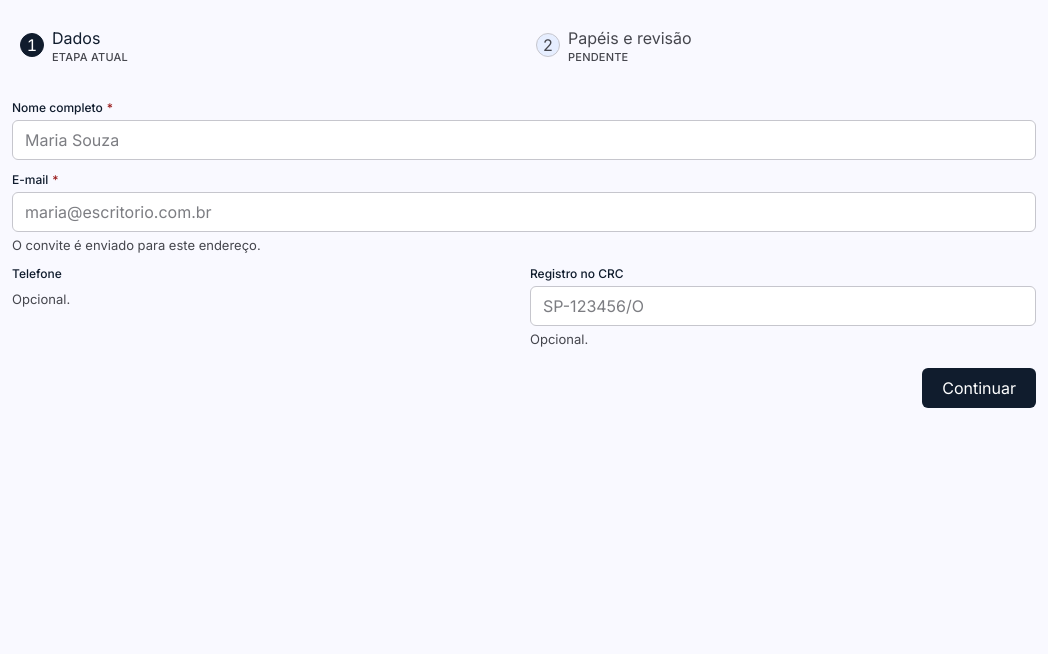
etapa 2 — Papéis e revisão › sem papel o envio é recusado com a mensagem no lugar certo, e nada é enviado
Type "Ana Souza" into the field labelled "Nome completo*" at [524, 140], box [12,120,1036,160]
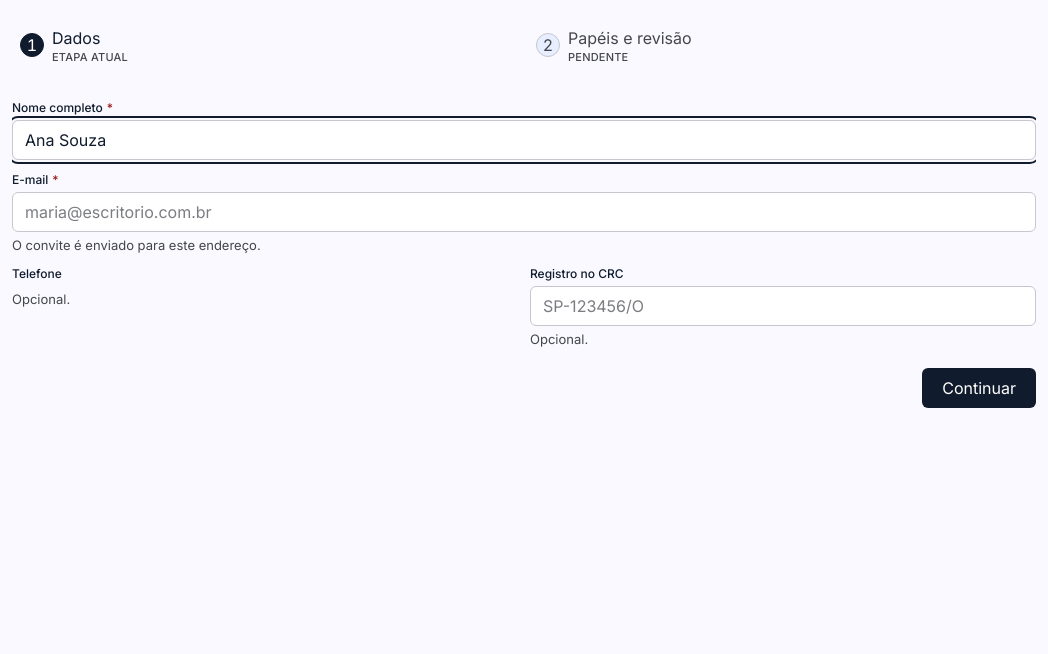
Type "ana@escritorio.com" into the field labelled "E-mail*" at [524, 212], box [12,192,1036,232]
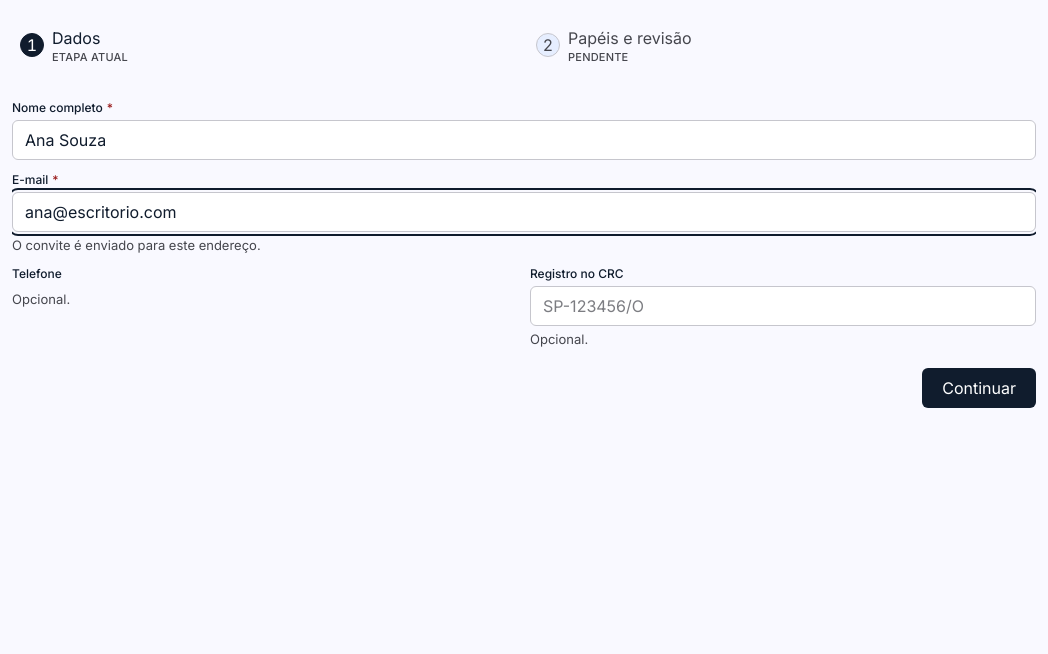
Click the button "Continuar" at [979, 388], box [922,368,1036,408]
(page scrolled)
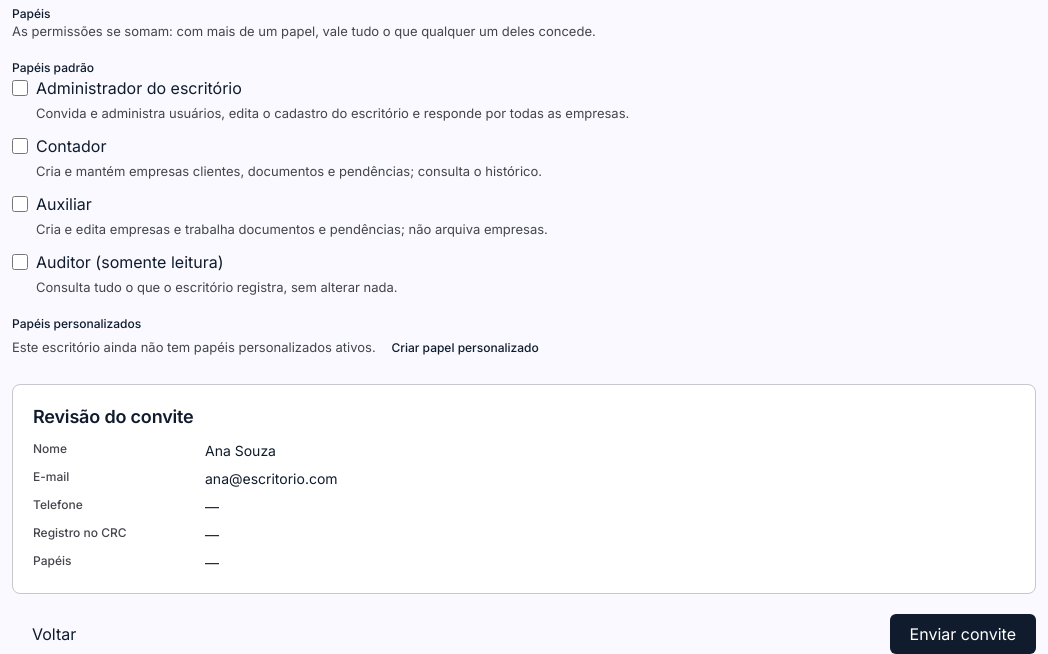
Now the element "Papéis" is shown, box [12,6,629,355]
Click the button "Enviar convite" at [963, 634], box [890,614,1036,653]
(page scrolled)
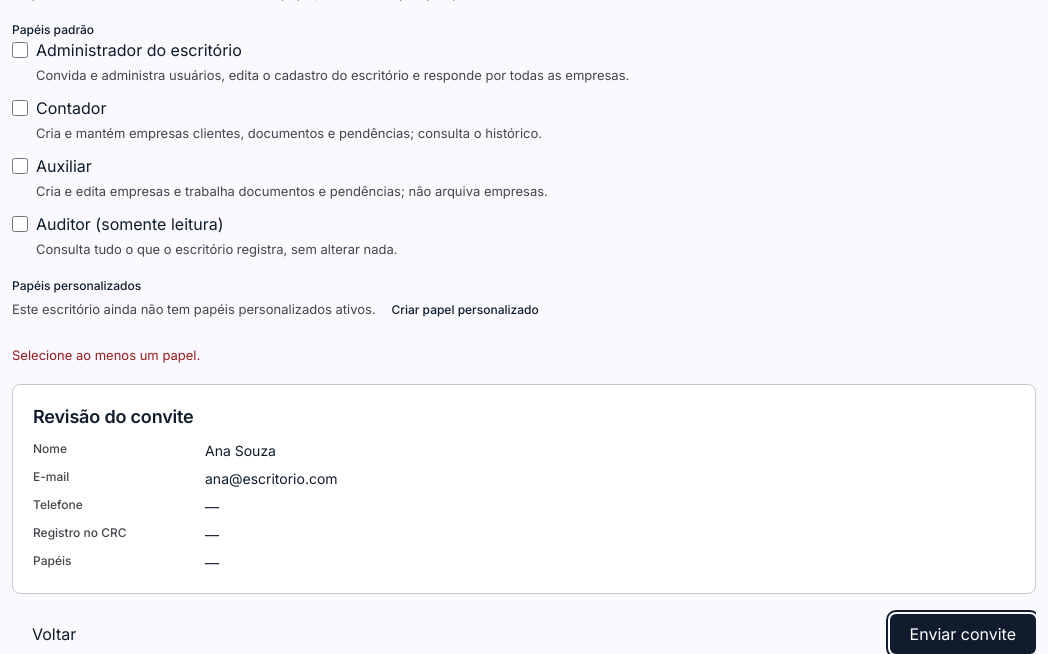
Now the button "Enviar convite" is enabled, box [890,614,1036,653]
Now the text "Selecione ao menos um papel." is shown, box [12,347,200,363]
